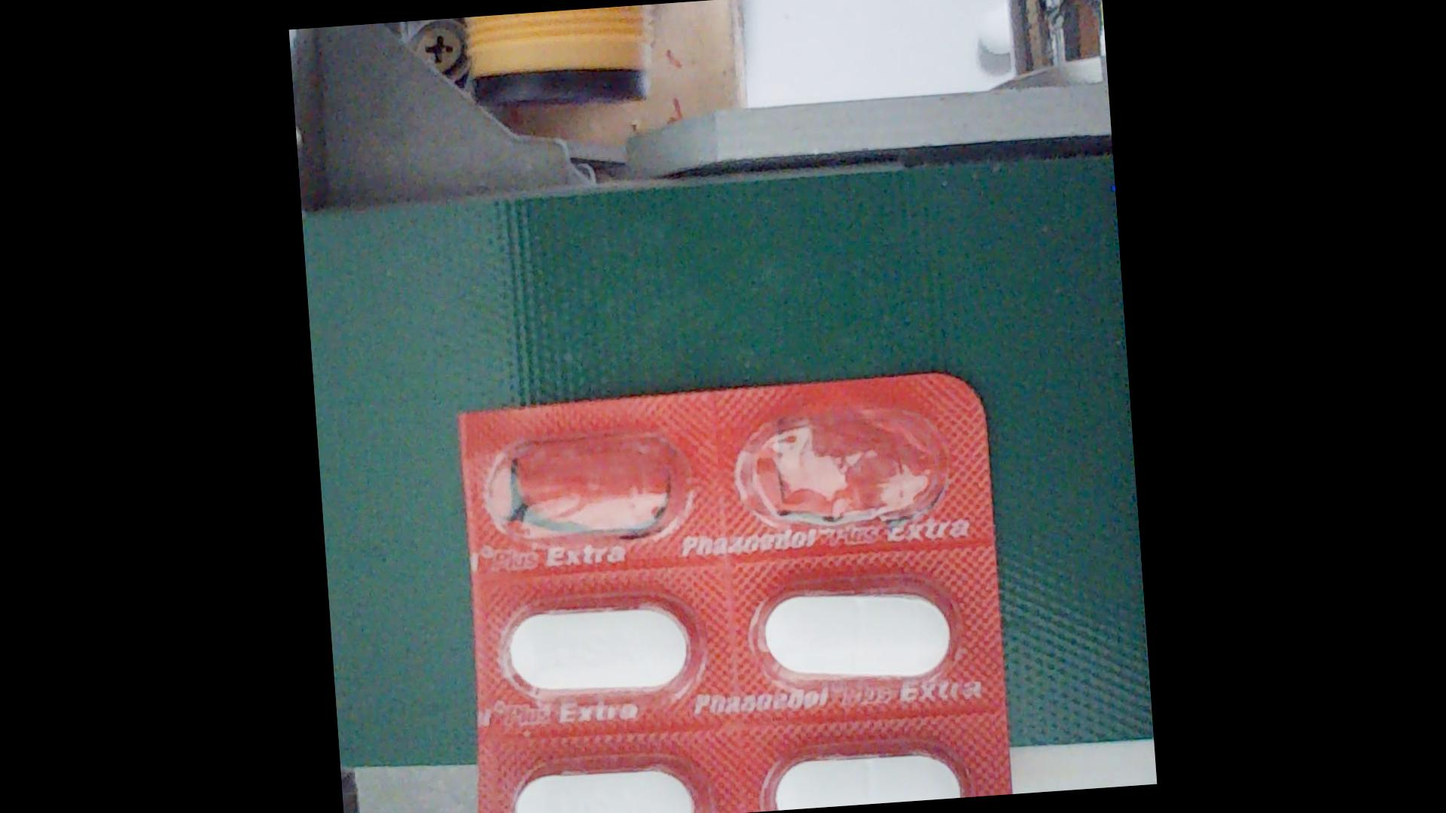Empty: (483, 427, 705, 554), (729, 408, 951, 535)
Full: (748, 574, 966, 699), (493, 595, 711, 720), (758, 738, 976, 811), (495, 756, 712, 813)
